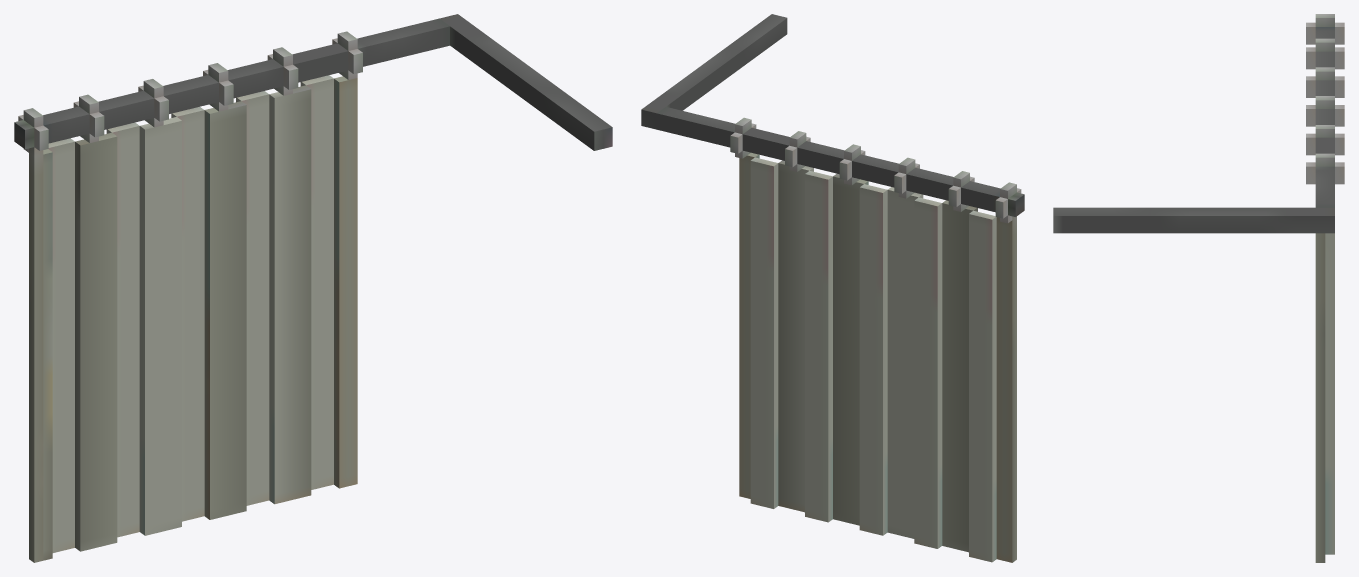
Rendered from CurtainBathroom_00.obj.
3 views of the same model, side by side, from view 1: azimuth 30°, elevation 25°; view 2: azimuth 150°, elevation 25°; view 3: azimuth 270°, elevation 25° (orthographic). The views are drawn at different scales.
Parts seen in each view (by area): view 1: CurtainBathroom_00; view 2: CurtainBathroom_00; view 3: CurtainBathroom_00.
Boxes of the visible parts, x1,y1,x2,y2 form: CurtainBathroom_00: [14, 14, 612, 562]; CurtainBathroom_00: [641, 14, 1024, 562]; CurtainBathroom_00: [1053, 14, 1344, 562].
Bounding box in the file's own units: 2.4 × 2.3 × 1.5.
